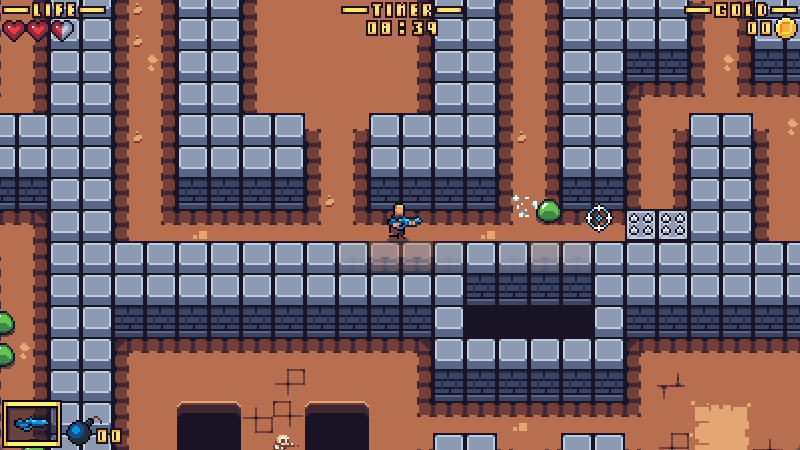aim: (585, 204, 615, 231)
bomb_counter_0: (66, 415, 122, 450)
enemy_slug: (536, 198, 563, 225), (1, 342, 15, 367), (1, 311, 13, 336)
gold_counter: (686, 1, 800, 39)
health-1: (1, 19, 76, 44)
player: (386, 205, 424, 241)
timer: (342, 1, 462, 35)
trap_warning: (626, 211, 690, 242)
